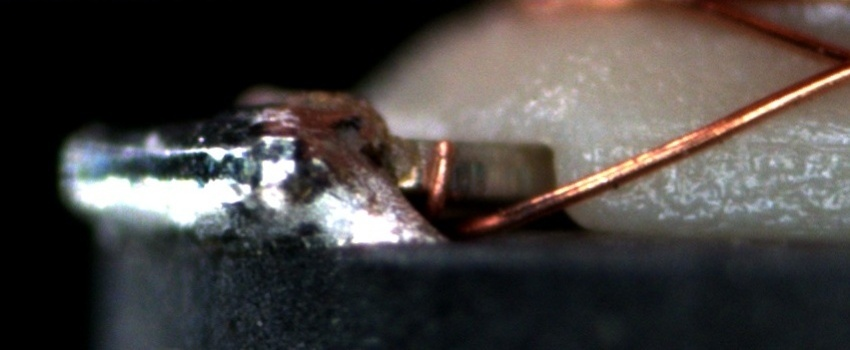CL: (803, 32, 850, 91)
DL: (715, 106, 849, 169)
TE: (424, 135, 455, 207)
